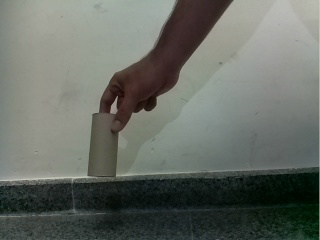rollo papel: (87, 112, 118, 178)
